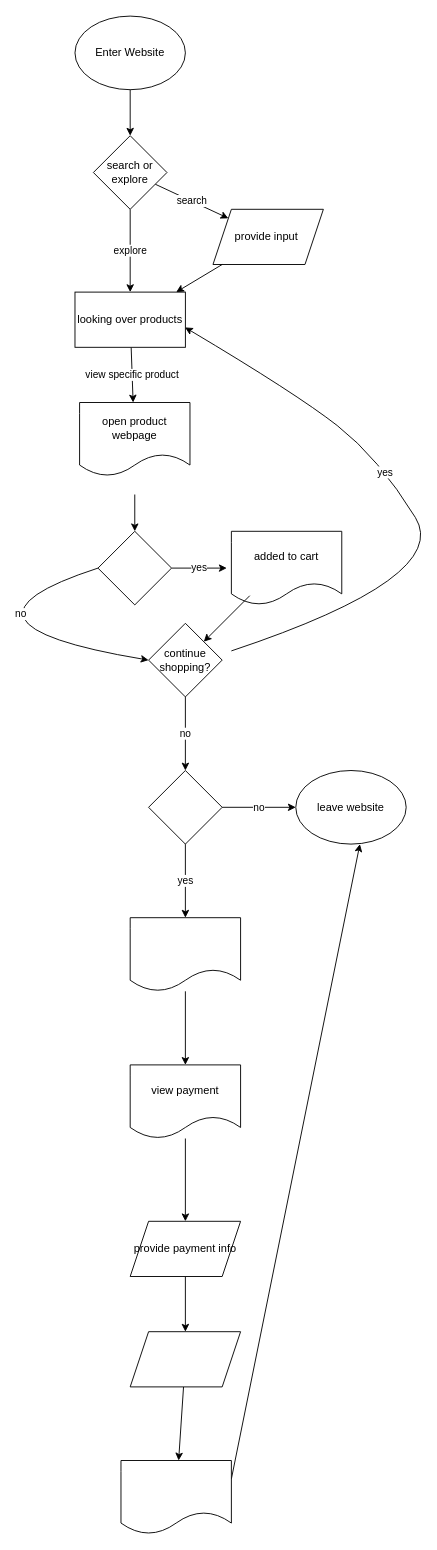
The diagram is 437 pixels wide and 1550 high, and some of its shapes have lost their labels. The shapes that lost their labels are listed below. From the top down, each one's centre as x and y in pixels, then its label:
pixel 134 567: add to cart?
pixel 185 807: checkout?
pixel 185 954: view cart
pixel 185 1359: email confirmation
pixel 175 1497: order confirmation screen
